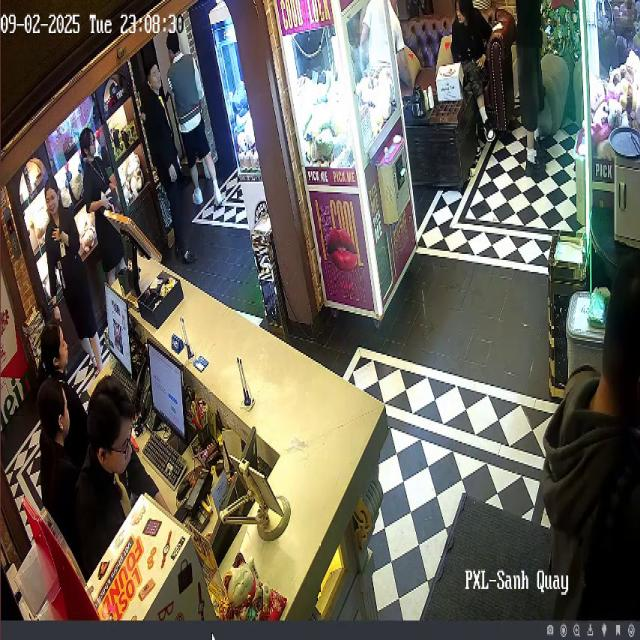khach: (540, 261, 640, 628), (165, 31, 231, 218), (449, 1, 512, 172), (362, 2, 420, 160), (511, 0, 557, 182)
nhan vien: (35, 159, 109, 376), (140, 52, 198, 278), (75, 377, 136, 581), (75, 119, 127, 302), (36, 312, 86, 480), (38, 370, 77, 572)
